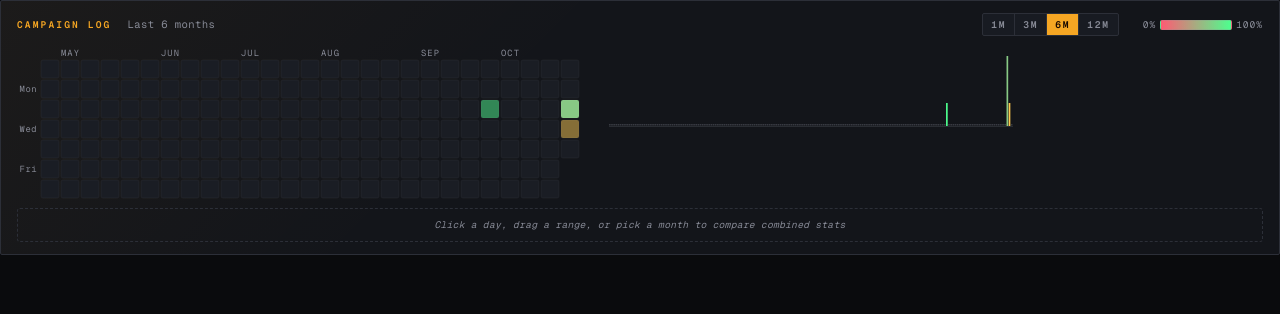
Scenario: MatchTimelineHeader — the window picker › singularizes the one-month window
What coordinates should you click on to do the following:
click the button "1M"
I would click on:
 (999, 24)
Its box is top-left (983, 14), bottom-right (1015, 35).
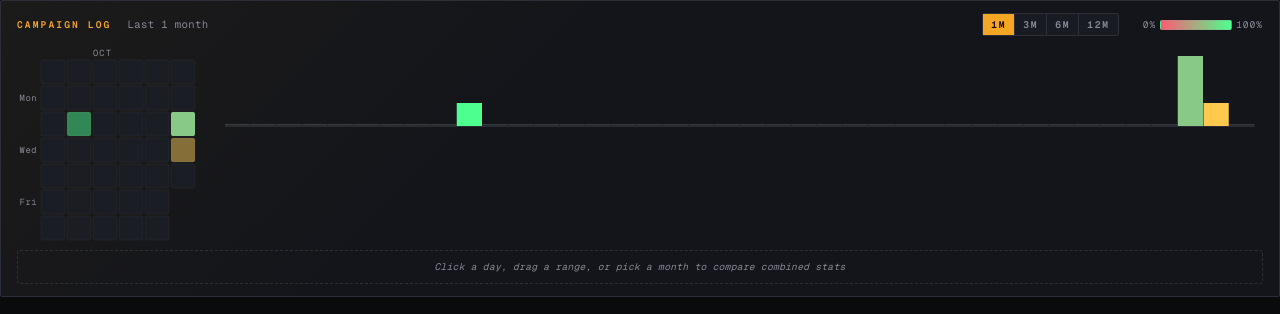
Now the text "Last 1 month" is shown, box top-left (127, 17), bottom-right (208, 33)
